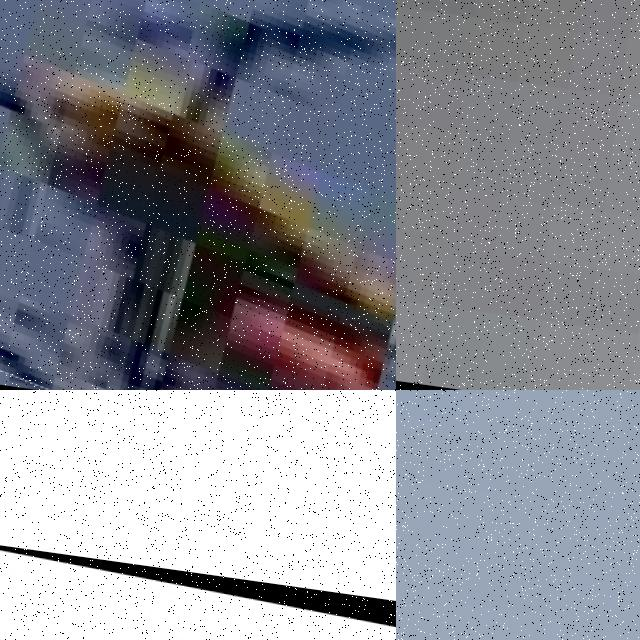drone: (0, 0, 396, 390), (0, 531, 396, 640)
